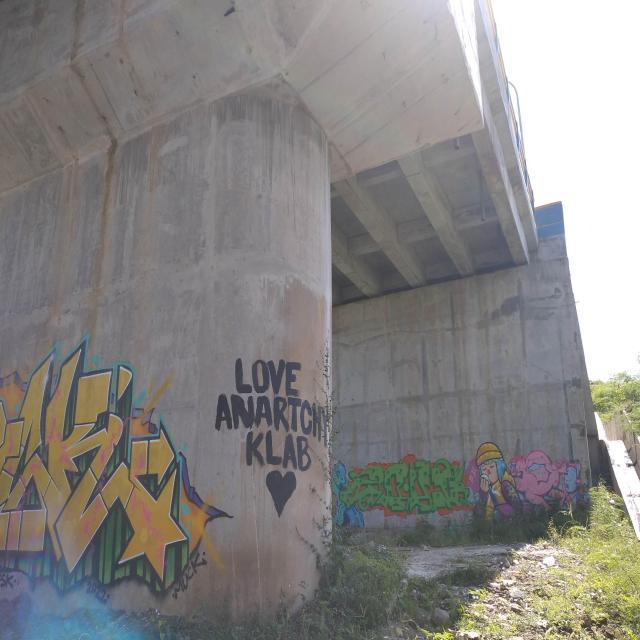nonspitting: (0, 336, 227, 597), (215, 356, 330, 516), (332, 447, 470, 530), (510, 448, 591, 516)
spitting: (473, 442, 524, 522)
